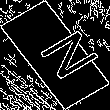N_SW: (18, 25, 92, 85)
